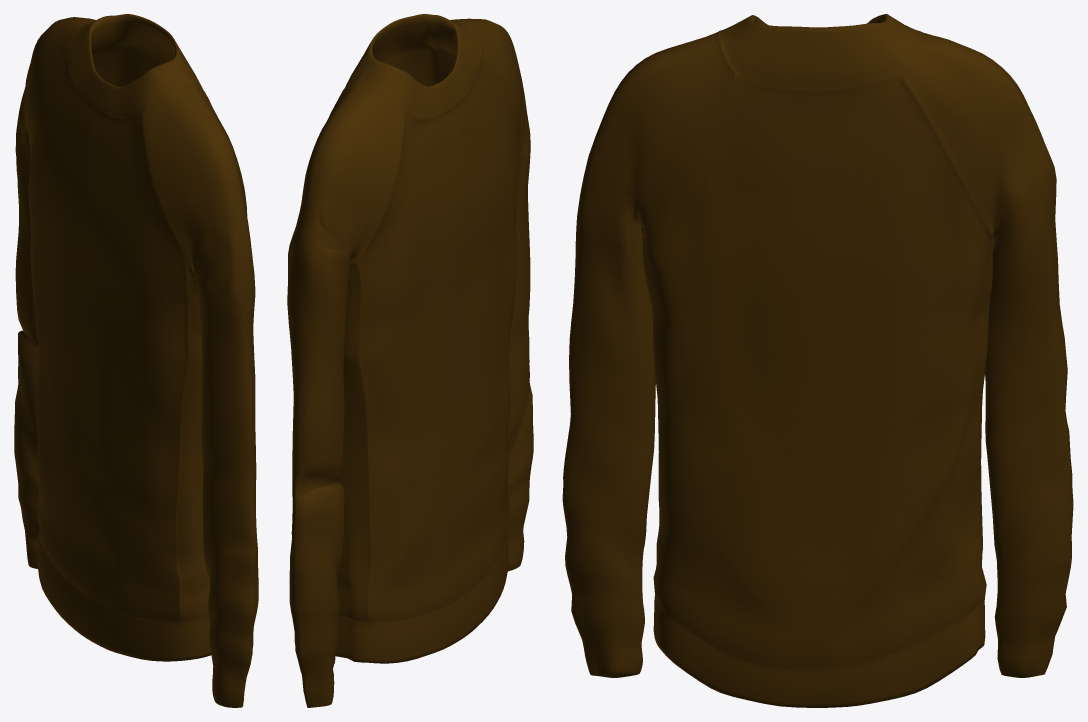
3 views of the same model, side by side, from view 1: azimuth 30°, elevation 25°; view 2: azimuth 150°, elevation 25°; view 3: azimuth 270°, elevation 25° (orthographic). The views are drawn at different scales.
Visible parts, largest first — view 1: Plane136; view 2: Plane136; view 3: Plane136.
Part boxes in pixels (x1=…): Plane136: x1=14, y1=14, x2=258, y2=707; Plane136: x1=287, y1=14, x2=533, y2=707; Plane136: x1=562, y1=14, x2=1073, y2=707.
Size of the model in its own units: 4.58 by 24.14 by 16.73.
